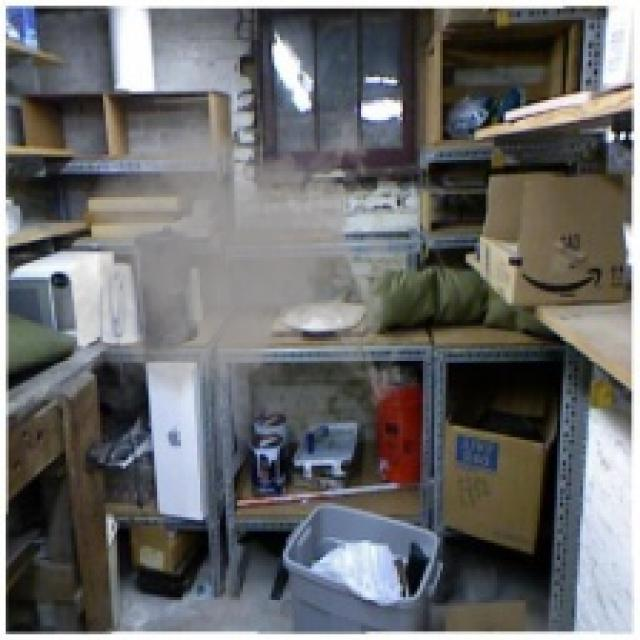Smoke: (54, 60, 412, 463)
